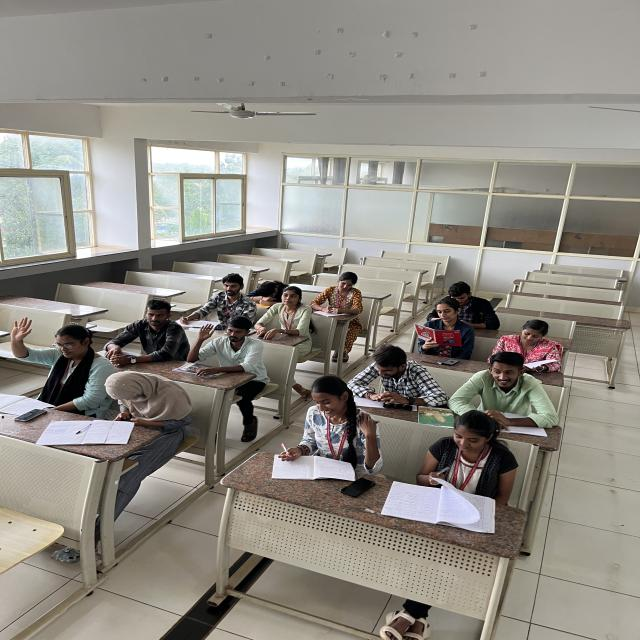Hand Rising: (4, 310, 105, 402)
Reading: (410, 417, 501, 522), (487, 313, 564, 371), (412, 296, 473, 353)
Sleeping: (247, 276, 290, 308)
Using Phone: (100, 365, 188, 424)
Writing: (275, 372, 374, 475), (175, 272, 254, 330), (310, 267, 362, 319)
